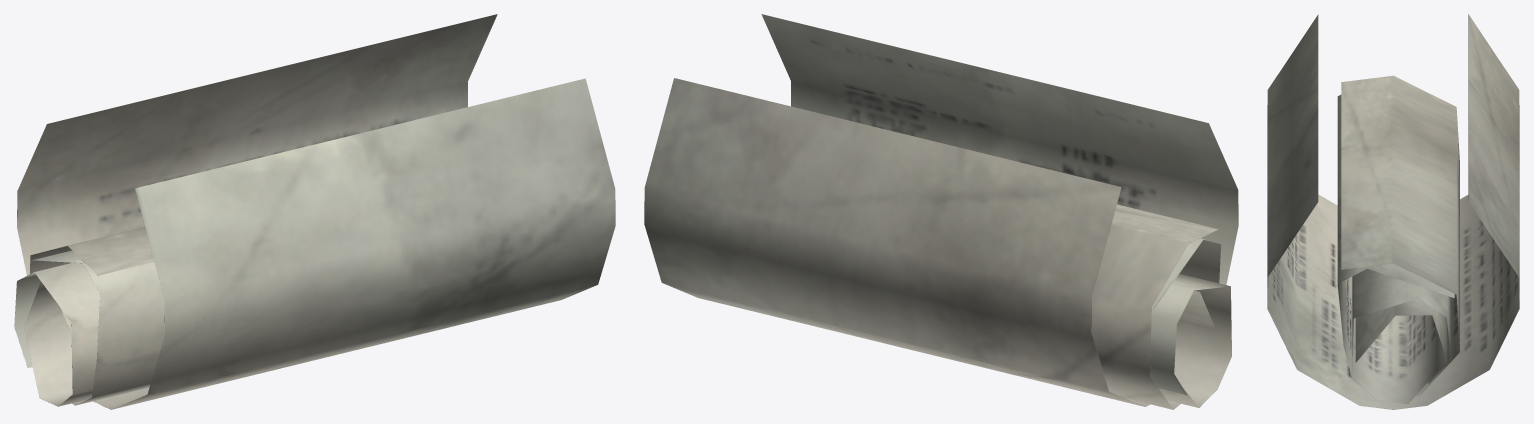
File: Paper_N.obj
3 views of the same model, side by side, from view 1: azimuth 30°, elevation 25°; view 2: azimuth 150°, elevation 25°; view 3: azimuth 270°, elevation 25° (orthographic). The views are drawn at different scales.
Parts seen in each view (by area): view 1: Paper_N; view 2: Paper_N; view 3: Paper_N.
Boxes of the visible parts, left/top/right/bottom form: Paper_N: left=14, top=14, right=615, bottom=409; Paper_N: left=644, top=14, right=1238, bottom=409; Paper_N: left=1267, top=14, right=1519, bottom=409.
Bounding box in the file's own units: 13.84 × 6.4 × 7.02.
